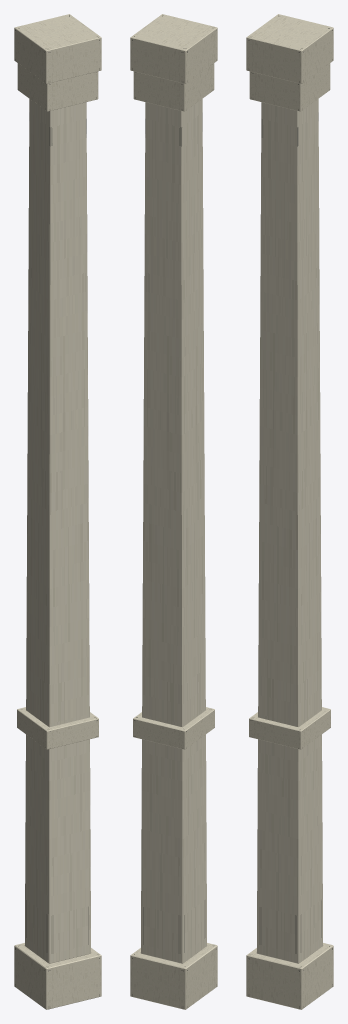
The model's file is house_04_porch_post.glb.
The picture shows the model from 3 angles, left to right: view 1: azimuth 30°, elevation 25°; view 2: azimuth 150°, elevation 25°; view 3: azimuth 330°, elevation 25°; orthographic projection.
Parts seen in each view (by area): view 1: house_04_porch_post; view 2: house_04_porch_post; view 3: house_04_porch_post.
Boxes of the visible parts, x1,y1,x2,y2 form: house_04_porch_post: (14, 14, 101, 1009); house_04_porch_post: (130, 14, 217, 1009); house_04_porch_post: (246, 14, 333, 1009).
Bounding box in the file's own units: 0.14 × 2.3 × 0.14.
Materials: 2 (2 with a texture image).
